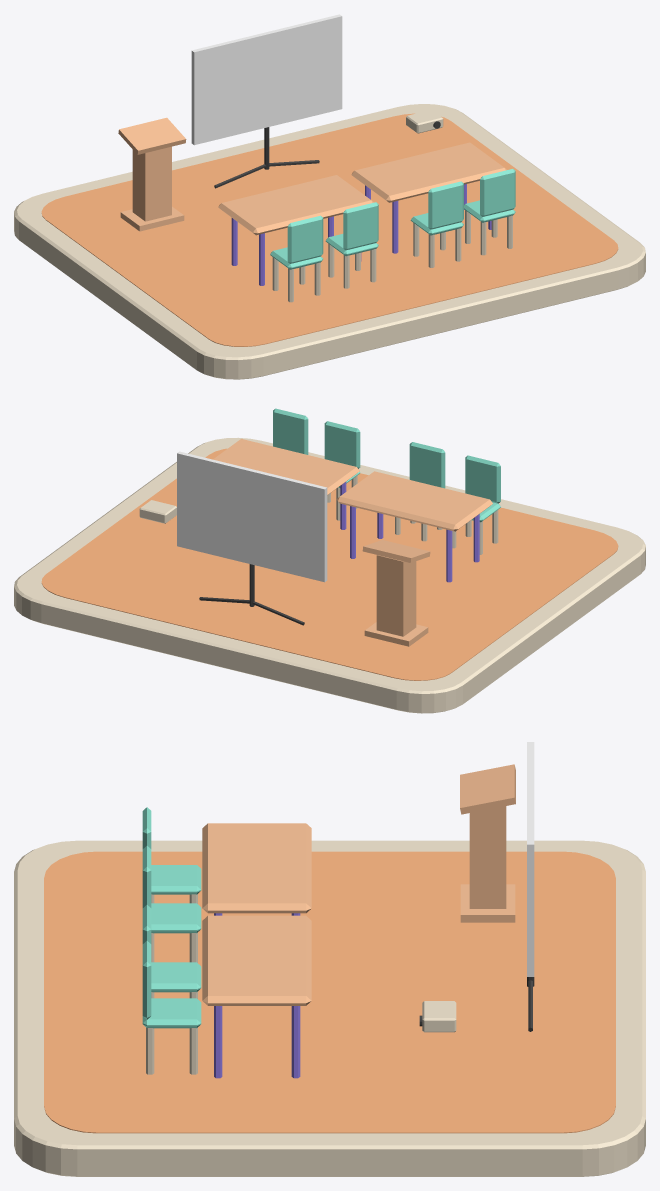
3 renders of one model, top to bottom at view 1: azimuth 30°, elevation 25°; view 2: azimuth 150°, elevation 25°; view 3: azimuth 270°, elevation 25°, orthographic. The views are drawn at different scales.
Visible parts, largest first — view 1: COM-02 Floor Surface, COM-01 Rounded Base Direct, Screen, Rounded table top.001, Rounded table top, Body, Reading top, Backrest, Backrest.003, Backrest.001, Backrest.002, Foot (+1 smaller); view 2: COM-02 Floor Surface, COM-01 Rounded Base Direct, Screen, Rounded table top, Rounded table top.001, Body, Backrest.002, Backrest.001, Backrest, Backrest.003, Reading top, Foot (+1 smaller); view 3: COM-02 Floor Surface, COM-01 Rounded Base Direct, Rounded table top, Rounded table top.001, Body, Reading top, Screen, Seat.003, Seat.002, Seat.001, Seat, Foot (+4 smaller).
Part boxes in pixels (box(x1,y1,x2,y2)): COM-02 Floor Surface: box(41, 113, 618, 346); COM-01 Rounded Base Direct: box(14, 104, 645, 379); Screen: box(191, 14, 342, 145); Rounded table top.001: box(351, 142, 506, 202); Rounded table top: box(218, 175, 373, 235); Body: box(132, 146, 171, 221); Reading top: box(118, 117, 186, 154); Backrest: box(287, 215, 323, 263); Backrest.003: box(480, 169, 515, 216); Backrest.001: box(343, 202, 378, 250); Backrest.002: box(428, 181, 463, 229); Foot: box(120, 206, 184, 231); COM-02 Floor Surface: box(41, 448, 618, 680); COM-01 Rounded Base Direct: box(14, 437, 645, 713); Screen: box(177, 451, 327, 582); Rounded table top: box(336, 471, 492, 531); Rounded table top.001: box(213, 439, 359, 494); Body: box(376, 555, 416, 636); Backrest.002: box(324, 421, 360, 468); Backrest.001: box(409, 442, 445, 488); Backrest: box(465, 455, 500, 503); Backrest.003: box(273, 408, 308, 454); Reading top: box(362, 540, 430, 562); Foot: box(364, 622, 428, 646); COM-02 Floor Surface: box(44, 851, 615, 1133); COM-01 Rounded Base Direct: box(14, 840, 645, 1176); Rounded table top: box(202, 823, 311, 913); Rounded table top.001: box(202, 915, 311, 1005); Body: box(469, 806, 506, 908); Reading top: box(460, 764, 515, 814); Screen: box(527, 742, 534, 976); Seat.003: box(142, 998, 201, 1028); Seat.002: box(151, 962, 201, 992); Seat.001: box(151, 903, 201, 933); Seat: box(151, 865, 201, 894); Foot: box(460, 884, 515, 922).
Bounding box in the file's own units: 6 × 2.15 × 5.2.
Materials: 1 (1 with a texture image).
